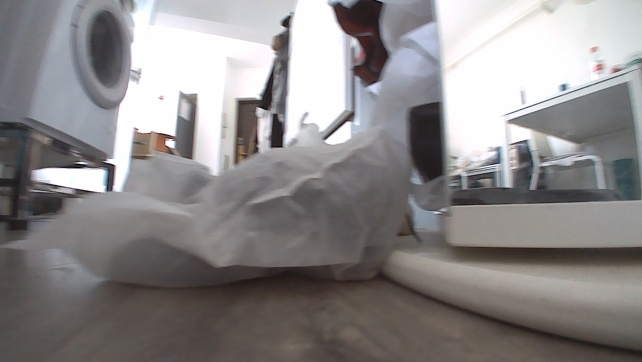washing_machine: (0, 0, 137, 165)
